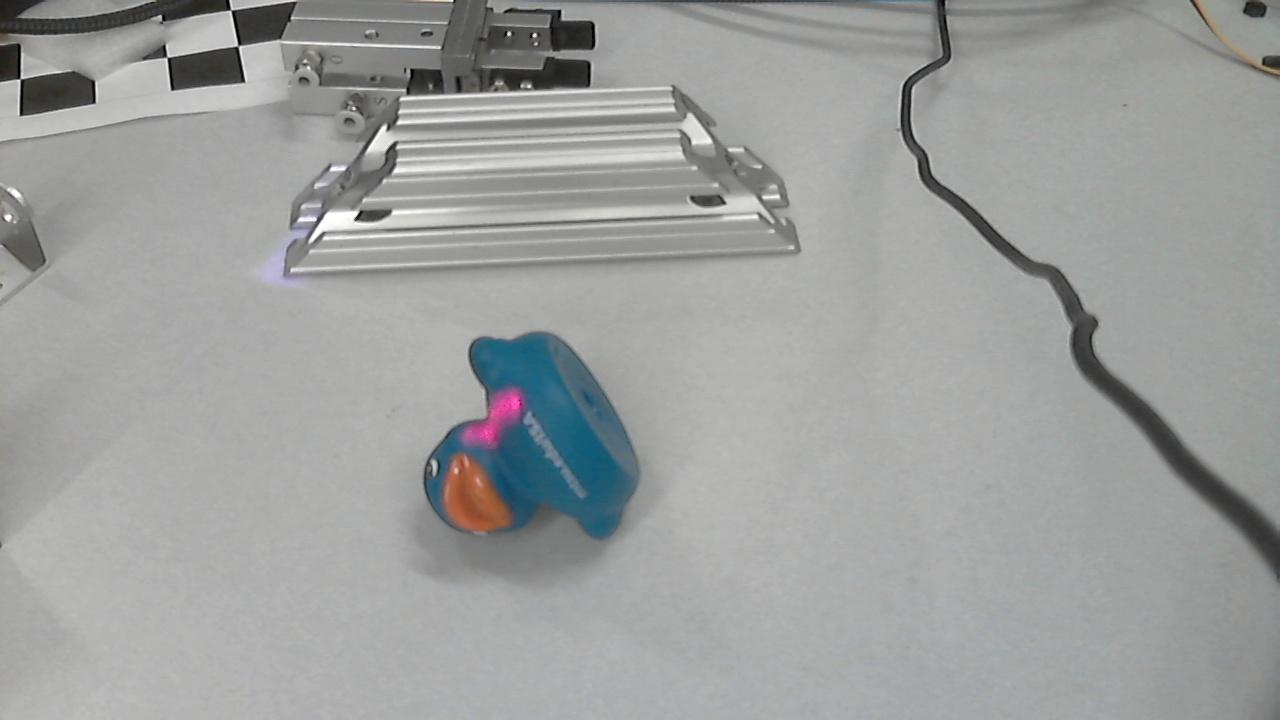Object scissors - Material metal - Pdfname tYexGlkiIXWc: (457, 390, 558, 487)
